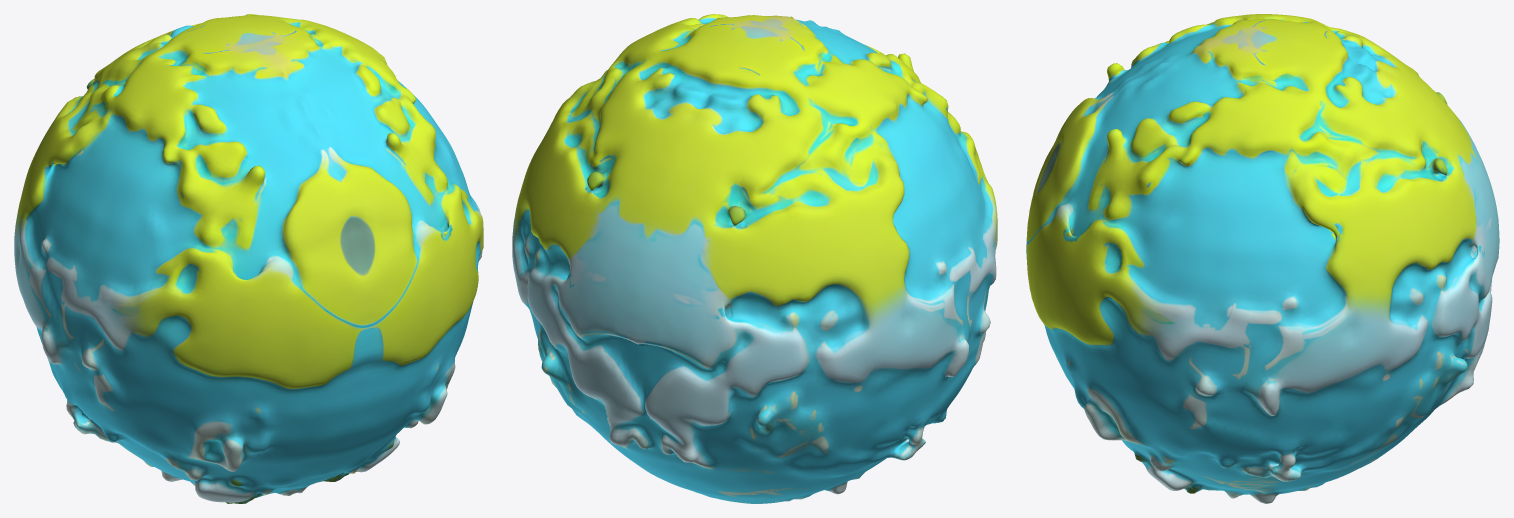
File: earth.glb
3 renders of one model, left to right at view 1: azimuth 30°, elevation 25°; view 2: azimuth 150°, elevation 25°; view 3: azimuth 270°, elevation 25°, orthographic. The views are drawn at different scales.
Visible parts, largest first — view 1: model; view 2: model; view 3: model.
Part boxes in pixels (x1,y1,x2,y2): model: (14,14,483,503); model: (512,14,997,503); model: (1026,14,1499,503).
Size of the model in its own units: 1.89 by 1.9 by 1.87.
Materials: 1 (1 with a texture image).
